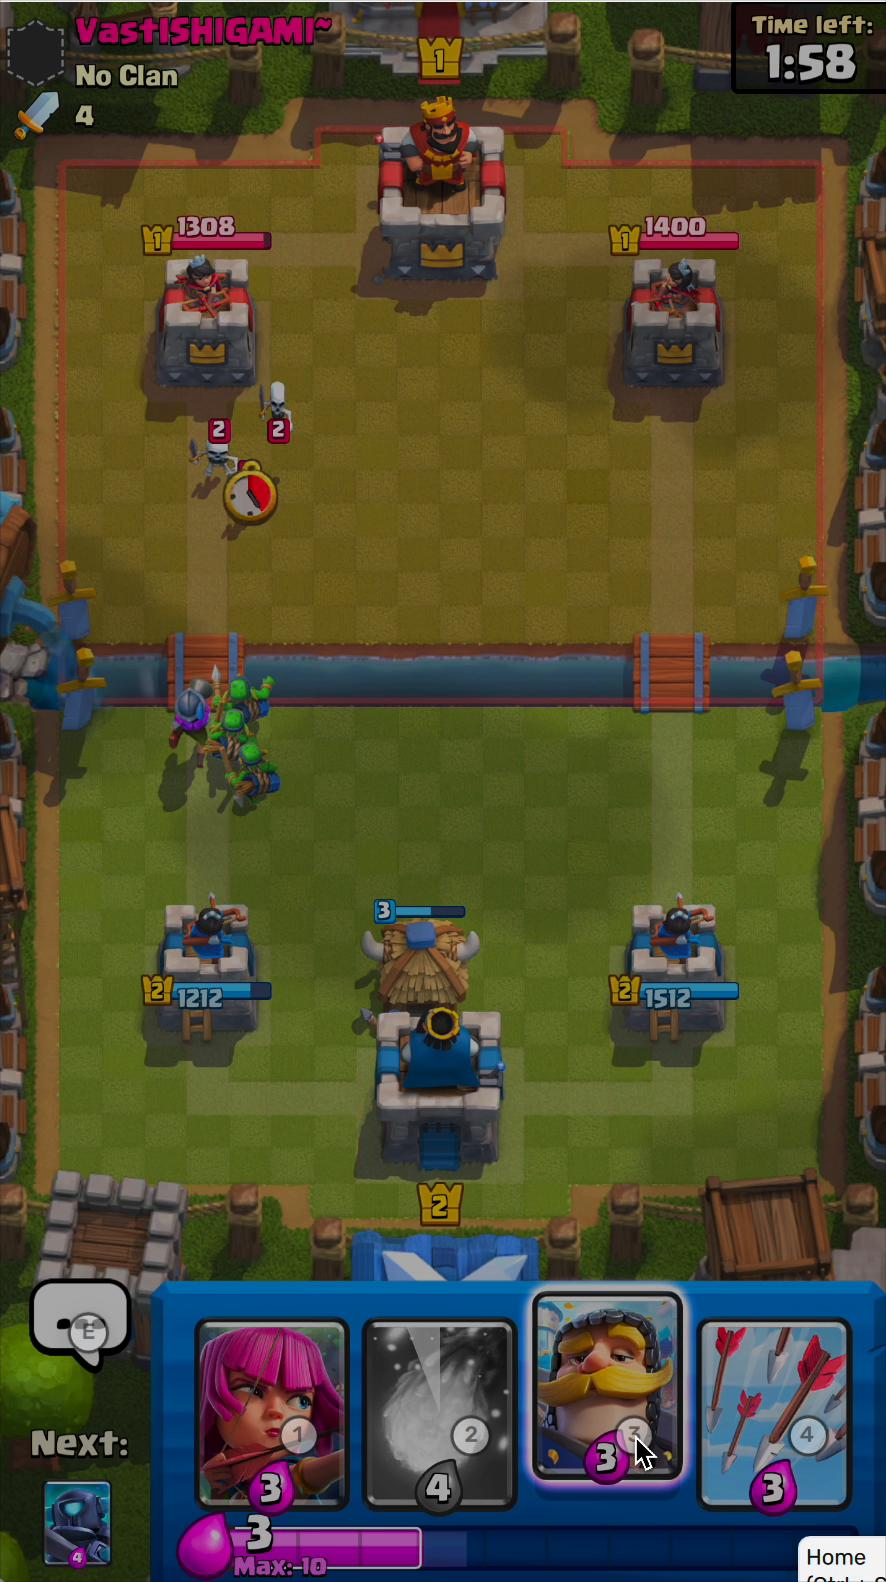gobelin_lances: (221, 741, 278, 803), (214, 671, 279, 725), (202, 706, 262, 764)
mousquetaire: (160, 677, 223, 755)
squelette: (248, 377, 300, 447), (186, 434, 244, 494)
